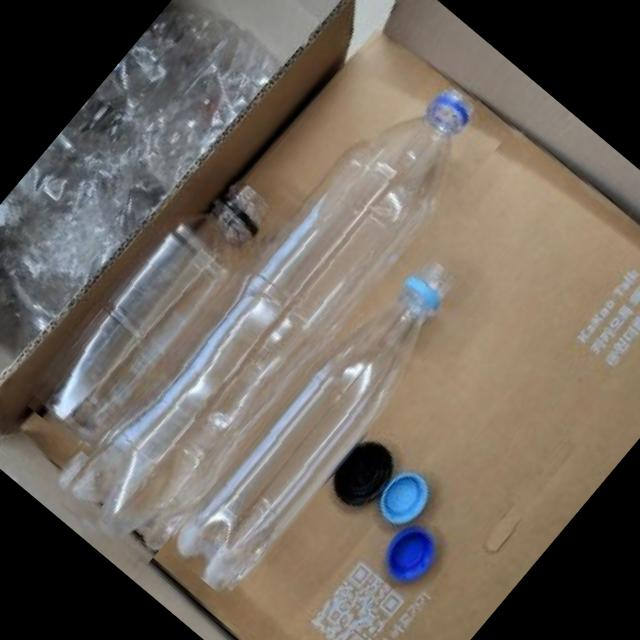plastic bottle: (44, 52, 508, 572), (158, 242, 478, 598), (18, 161, 288, 458)
